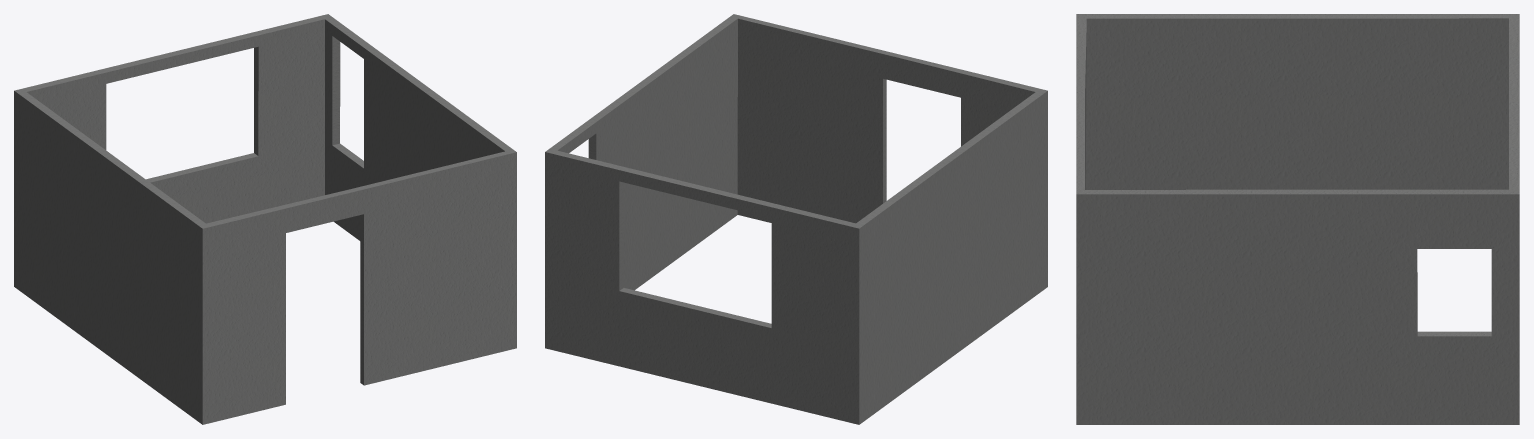
File: FP411:Walls_ea1860e6.obj
3 views of the same model, side by side, from view 1: azimuth 30°, elevation 25°; view 2: azimuth 150°, elevation 25°; view 3: azimuth 270°, elevation 25° (orthographic). The views are drawn at different scales.
Visible parts, largest first — view 1: FP411:Walls_ea1860e6; view 2: FP411:Walls_ea1860e6; view 3: FP411:Walls_ea1860e6.
Boxes of the visible parts, bbox=[...] form: FP411:Walls_ea1860e6: bbox=[14, 14, 516, 424]; FP411:Walls_ea1860e6: bbox=[545, 14, 1047, 424]; FP411:Walls_ea1860e6: bbox=[1076, 14, 1519, 424].
Bounding box in the file's own units: 4.02 × 2.4 × 4.18.
